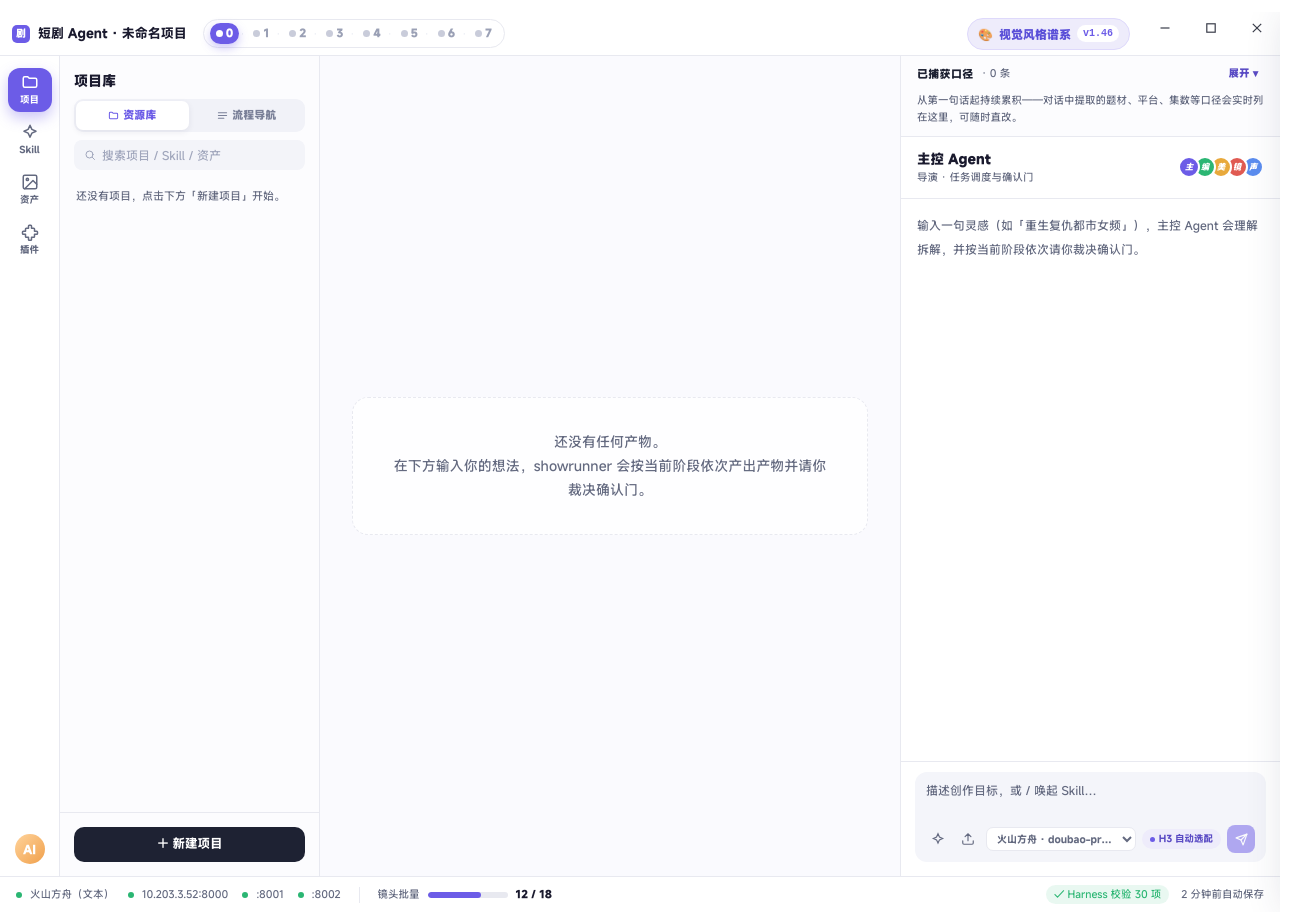
Test: feature-808 · 会话续聊（契约 §6.3） › D-007：sid=null（无绑定空项目）时他会话流式 + idle 一律丢弃，不上屏不落气泡
Expected: the text "输入一句灵感（如「重生复仇都市女频」），主控 Agent 会理解拆解，并按当前阶段依次请你裁决确认门。" is shown, top-left (917, 213), bottom-right (1264, 261)
Type "本项目自己的提问" into the text box with placeholder "描述创作目标，或 / 唤起 Skill…" at point(1090, 798), box top-left (926, 781), bottom-right (1255, 815)
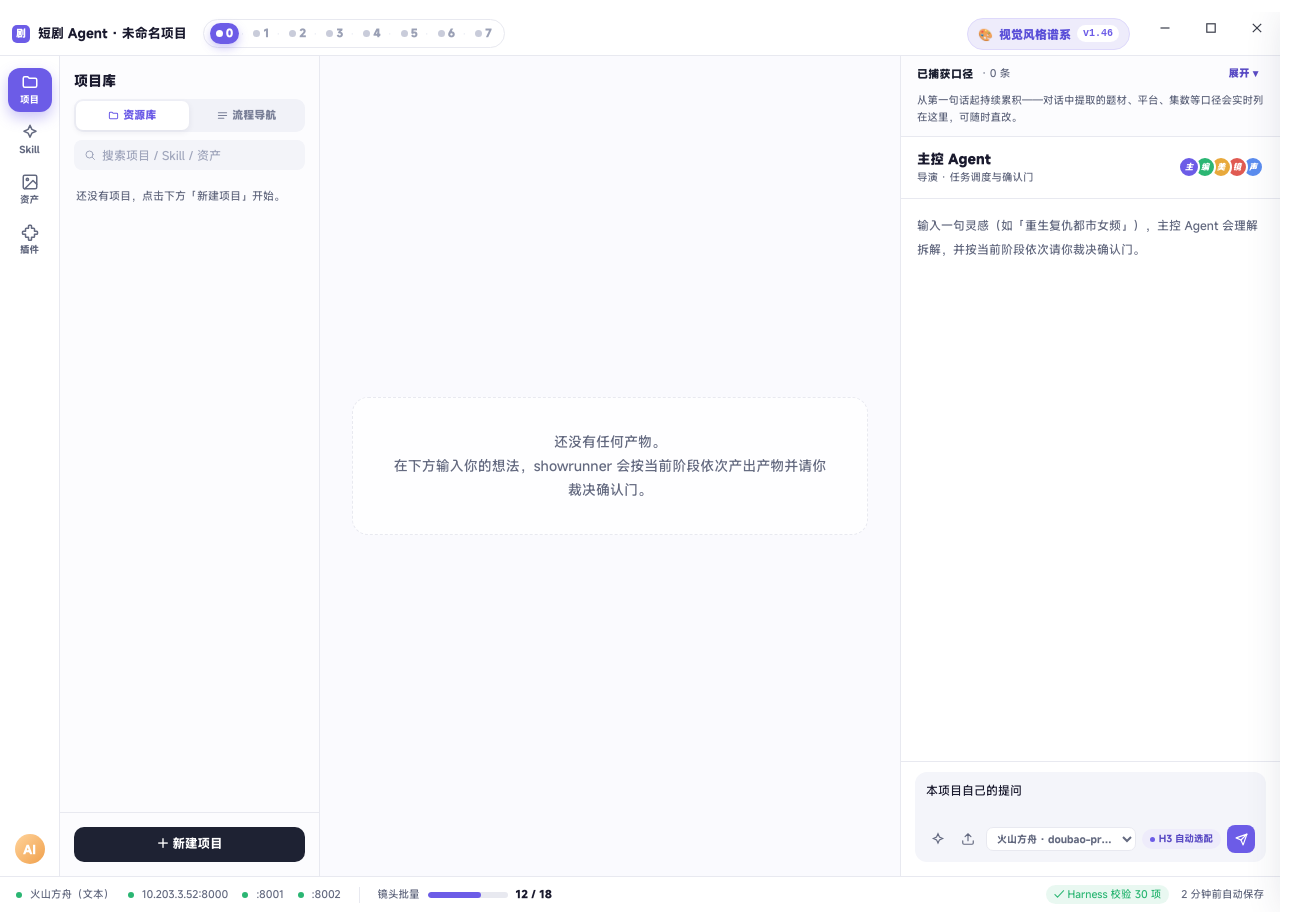
Result: the button named "发送" is enabled at top-left (1227, 825), bottom-right (1255, 853)
